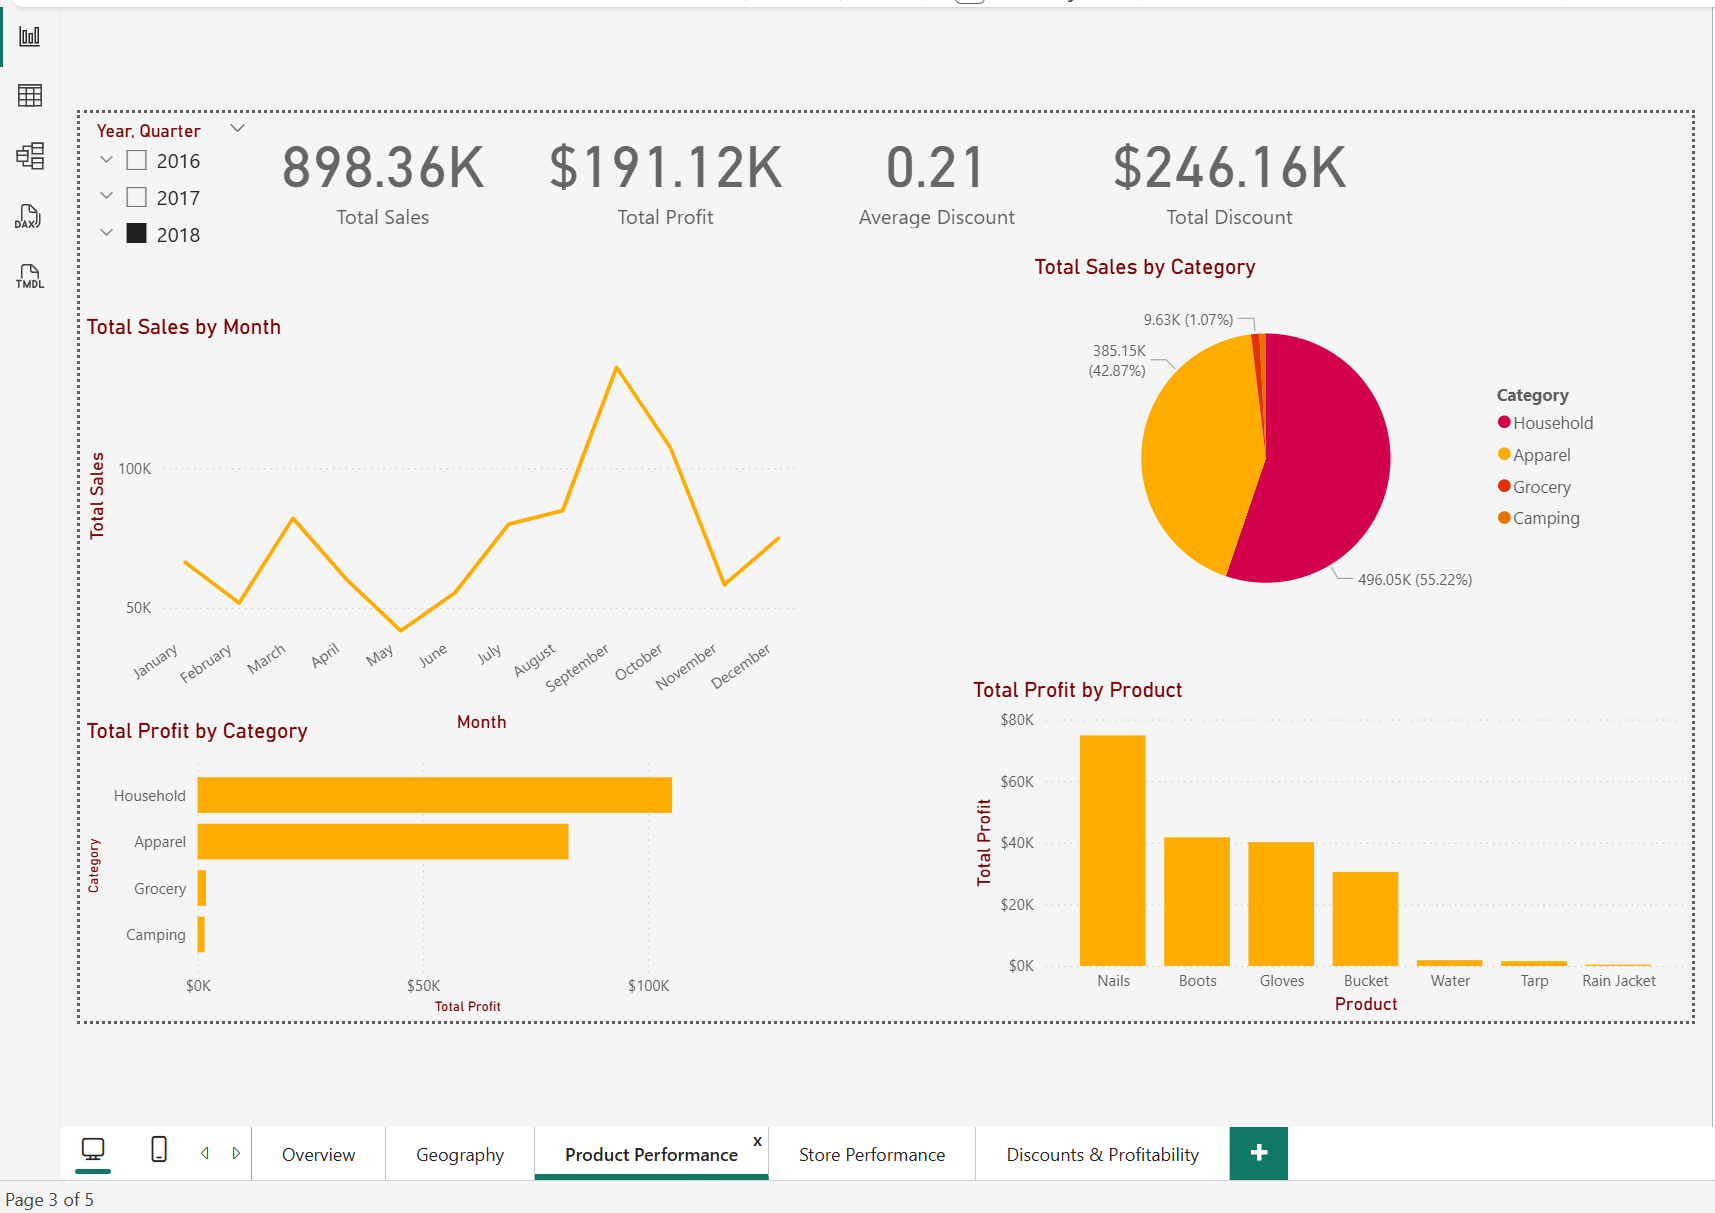

The page's visual inventory and layout, read from the dashboard file:
{"tool":"powerbi","page":{"name":"Product Performance","canvas":[1280,720],"ordinal":2},"visuals":[{"type":"card","fields":{"Values":["Transactions.Average Discount"]},"box":[592,0,176,96],"z":0},{"type":"card","fields":{"Values":["Transactions.Total Discount"]},"box":[800,0,224,96],"z":1000},{"type":"card","fields":{"Values":["Transactions.Total Profit"]},"box":[352,0,224,96],"z":2000},{"type":"card","fields":{"Values":["Transactions.Total Sales"]},"box":[144,0,192,96],"z":3000},{"type":"slicer","fields":{"Values":["Transactions.Date.Variation.Date Hierarchy.Year","Transactions.Date.Variation.Date Hierarchy.Quarter"]},"box":[0,0,144,160],"z":4000},{"type":"clusteredBarChart","fields":{"Category":["Transactions.Category"],"Y":["Transactions.Total Profit"]},"box":[0,480,544,240],"z":5000},{"type":"clusteredColumnChart","fields":{"Y":["Transactions.Total Profit"],"Category":["Transactions.Product"]},"box":[704,448,576,272],"z":6000},{"type":"lineChart","fields":{"Category":["Transactions.Date.Variation.Date Hierarchy.Month"],"Y":["Transactions.Total Sales"]},"box":[0,160,576,336],"z":7000},{"type":"pieChart","fields":{"Category":["Transactions.Category"],"Y":["Transactions.Total Sales"]},"box":[752,112,464,304],"z":8000}]}

Visuals, with their boxes on the page's 1280x720 design canvas (x1, y1, x2, y2). These are canvas units, not pixel positions in the 1715x1213 screenshot, which may show the page scaled, cropped or inside an application window:
card - Transactions.Average Discount: box=[592, 0, 768, 96]
card - Transactions.Total Discount: box=[800, 0, 1024, 96]
card - Transactions.Total Profit: box=[352, 0, 576, 96]
card - Transactions.Total Sales: box=[144, 0, 336, 96]
slicer - Transactions.Date.Variation.Date Hierarchy.Year x Transactions.Date.Variation.Date Hierarchy.Quarter: box=[0, 0, 144, 160]
clusteredBarChart - Transactions.Category x Transactions.Total Profit: box=[0, 480, 544, 720]
clusteredColumnChart - Transactions.Total Profit x Transactions.Product: box=[704, 448, 1280, 720]
lineChart - Transactions.Date.Variation.Date Hierarchy.Month x Transactions.Total Sales: box=[0, 160, 576, 496]
pieChart - Transactions.Category x Transactions.Total Sales: box=[752, 112, 1216, 416]
